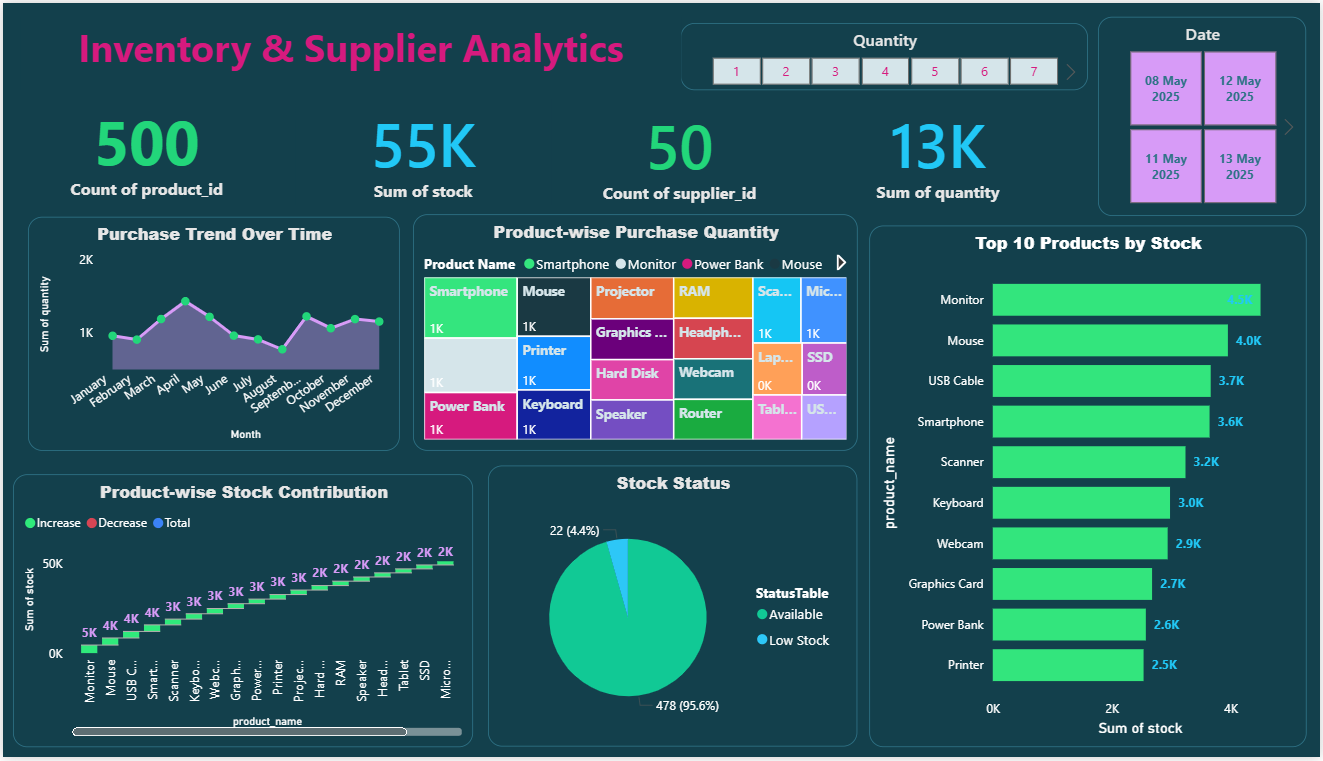

Layout of this report page (visuals, bound fields, positions):
{"tool":"powerbi","page":{"name":"Page 1","canvas":[1300,745],"ordinal":0},"visuals":[{"type":"card","fields":{"Values":["CountNonNull(inventory_management products.product_id)"]},"box":[24.8,89.8,235,109.8],"z":0},{"type":"card","fields":{"Values":["CountNonNull(inventory_management suppliers.supplier_id)"]},"box":[558.6,94.5,220.8,107.5],"z":1000},{"type":"card","fields":{"Values":["Sum(inventory_management purchases.quantity)"]},"box":[818.4,95.7,210.2,106.3],"z":2000},{"type":"card","fields":{"Values":["Sum(inventory_management products.stock)"]},"box":[289.3,95.7,252.7,103.9],"z":3000},{"type":"clusteredBarChart","title":"Top 10 Products by Stock","fields":{"Category":["inventory_management products.product_name"],"Y":["Sum(inventory_management products.stock)"]},"box":[855.7,220.3,431.6,515.2],"z":4000},{"type":"lineChart","title":"Purchase Trend Over Time","fields":{"Category":["inventory_management purchases.purchase_date.Variation.Date Hierarchy.Month"],"Y":["Sum(inventory_management purchases.quantity)"]},"box":[24.8,211.4,367.3,231.5],"z":5000},{"type":"treemap","title":"Product-wise Purchase Quantity","fields":{"Group":["inventory_management products.product_name"],"Values":["Sum(inventory_management purchases.quantity)"]},"box":[405.1,209,439.3,233.8],"z":6000},{"type":"waterfallChart","title":"Product-wise Stock Contribution","fields":{"Category":["inventory_management products.product_name"],"Y":["Sum(inventory_management products.stock)"]},"box":[9.4,465.3,454.7,269.3],"z":7000},{"type":"pieChart","title":"Stock Status","fields":{"Category":["Table.StatusTable"],"Y":["inventory_management products.value"]},"box":[479.5,457,364.9,277.5],"z":8000},{"type":"slicer","title":"Quantity","fields":{"Values":["inventory_management purchases.quantity"]},"box":[669.6,20.1,402.7,66.1],"z":9000},{"type":"slicer","title":"Date","fields":{"Values":["inventory_management purchases.purchase_date"]},"box":[1082,14.2,205.4,196.9],"z":10000},{"type":"textbox","box":[16.7,14.2,652.7,72.4],"z":11000}]}

Visuals, with their boxes in screenshot pixels (x1, y1, x2, y2), scaled from the page's 1300x745 canvas onto the 1323x761 screenshot:
card - CountNonNull(inventory_management products.product_id): (25,92,264,204)
card - CountNonNull(inventory_management suppliers.supplier_id): (568,97,793,206)
card - Sum(inventory_management purchases.quantity): (833,98,1047,206)
card - Sum(inventory_management products.stock): (294,98,552,204)
"Top 10 Products by Stock" clusteredBarChart: (871,225,1310,751)
"Purchase Trend Over Time" lineChart: (25,216,399,452)
"Product-wise Purchase Quantity" treemap: (412,213,859,452)
"Product-wise Stock Contribution" waterfallChart: (10,475,472,750)
"Stock Status" pieChart: (488,467,859,750)
"Quantity" slicer: (681,21,1091,88)
"Date" slicer: (1101,15,1310,216)
textbox: (17,15,681,88)
